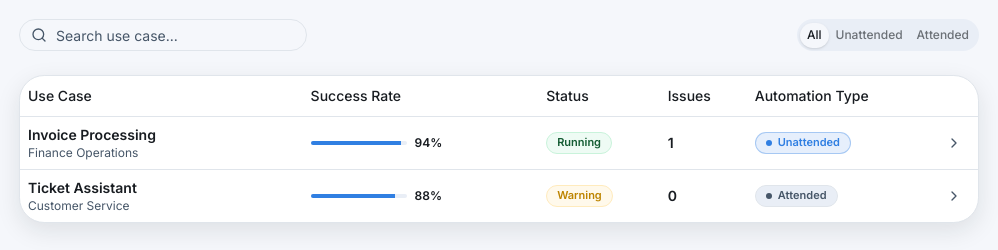
UseCasesList › searches by use case name and owner
Type "finance" into the field named "Search use cases" at (163, 35), box [19,19,307,51]
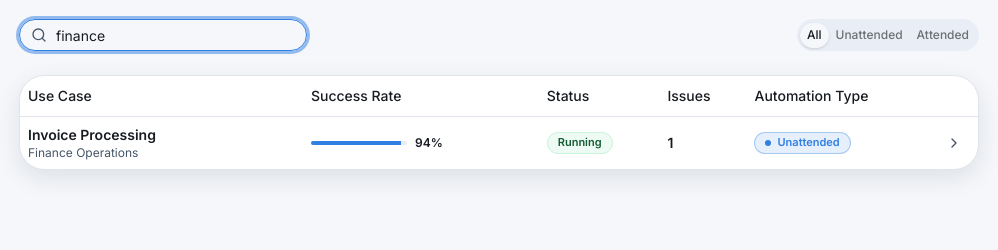
expect the text "Invoice Processing" is shown: met, box [28,126,156,142]
expect the link "Ticket Assistant" is gone: met
